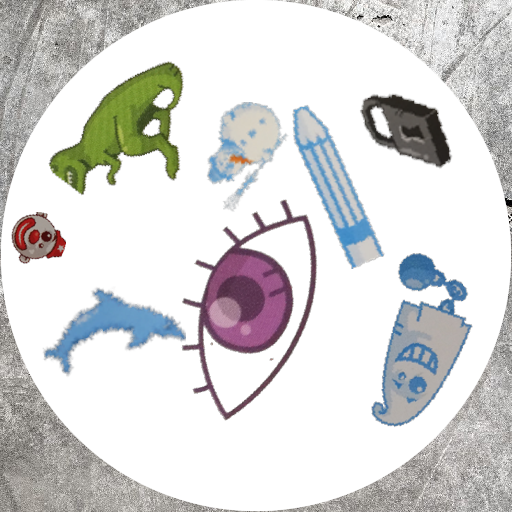clown_icon: (9, 212, 66, 269)
dino_icon: (38, 42, 198, 202)
dolphin_icon: (40, 259, 186, 405)
eye_icon: (141, 198, 366, 423)
ghost_icon: (325, 253, 508, 436)
lock_icon: (357, 81, 457, 181)
pen_icon: (250, 100, 419, 269)
snowman_icon: (190, 102, 301, 213)
